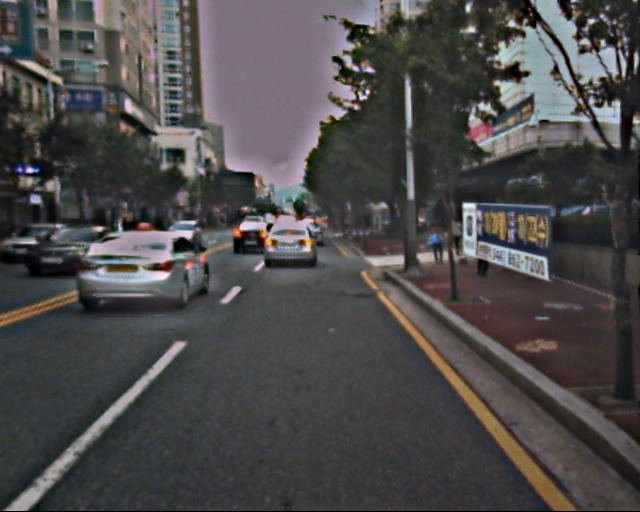person: (469, 218, 495, 281), (427, 215, 449, 269), (447, 211, 467, 259)
